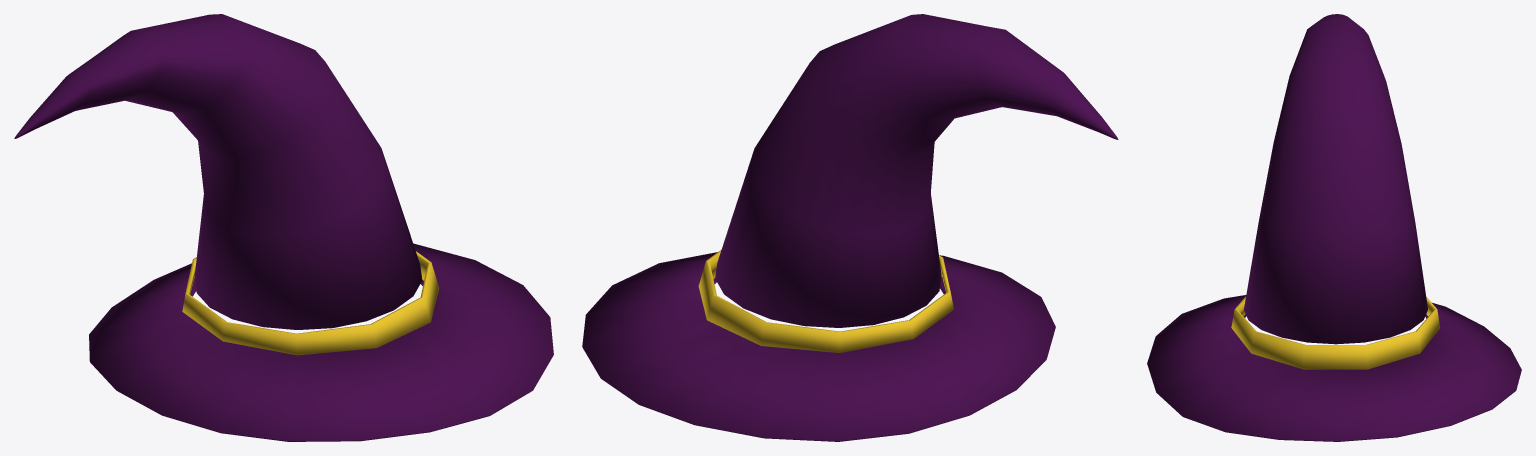
Rendered from hatMagic.fbx.
3 renders of one model, left to right at view 1: azimuth 30°, elevation 25°; view 2: azimuth 150°, elevation 25°; view 3: azimuth 270°, elevation 25°, orthographic. The views are drawn at different scales.
Visible parts, largest first — view 1: Cylinder, Cylinder.001; view 2: Cylinder, Cylinder.001; view 3: Cylinder, Cylinder.001.
Boxes of the visible parts, box(x1,y1,x2,y2) form: Cylinder: box(14, 14, 553, 441); Cylinder.001: box(182, 251, 439, 355); Cylinder: box(582, 14, 1118, 441); Cylinder.001: box(698, 249, 953, 352); Cylinder: box(1147, 14, 1521, 441); Cylinder.001: box(1231, 296, 1440, 369).
Bounding box in the file's own units: 461 × 309 × 370.
